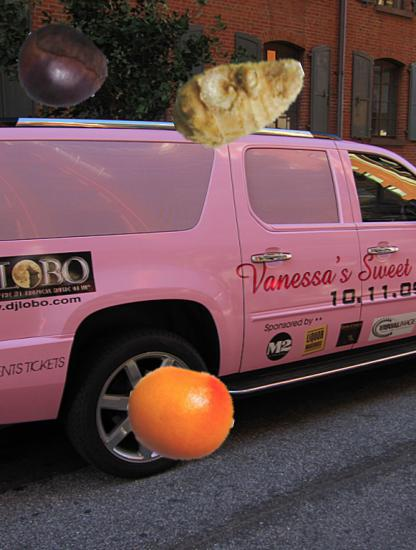Chestnut: (14, 22, 105, 113)
Ginger: (169, 29, 310, 170)
Grapefruit: (127, 360, 235, 468)
